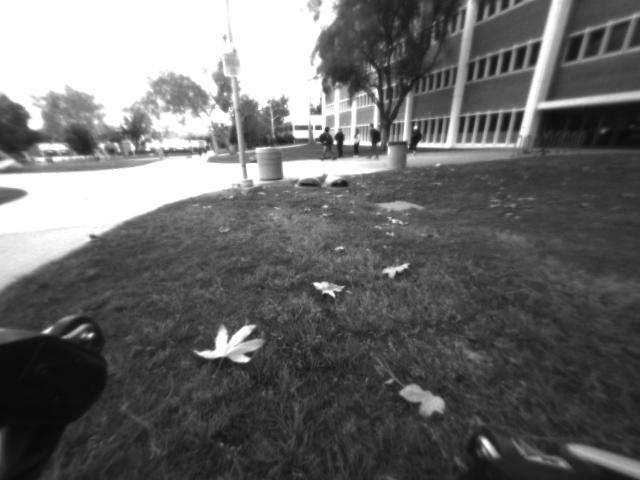trashcan: (255, 144, 289, 184), (387, 138, 411, 176)
